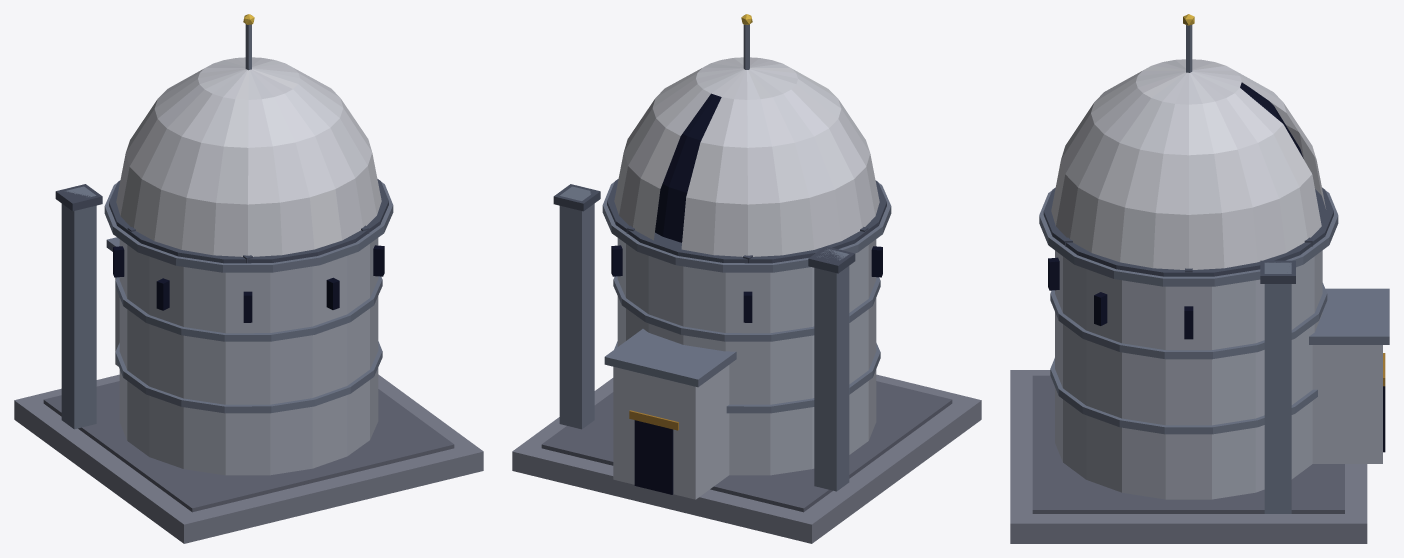
Rendered from Decor_Observatory_SilverDome.fbx.
The picture shows the model from 3 angles, left to right: view 1: azimuth 30°, elevation 25°; view 2: azimuth 150°, elevation 25°; view 3: azimuth 270°, elevation 25°; orthographic projection. The views are drawn at different scales.
Visible parts, largest first — view 1: SilverDome_Body; view 2: SilverDome_Body; view 3: SilverDome_Body.
Boxes of the visible parts, box(x1,y1,x2,y2) form: SilverDome_Body: box(14, 14, 483, 543); SilverDome_Body: box(512, 14, 981, 543); SilverDome_Body: box(1010, 14, 1389, 543).
Size of the model in its own units: 16 by 22 by 16.7.
